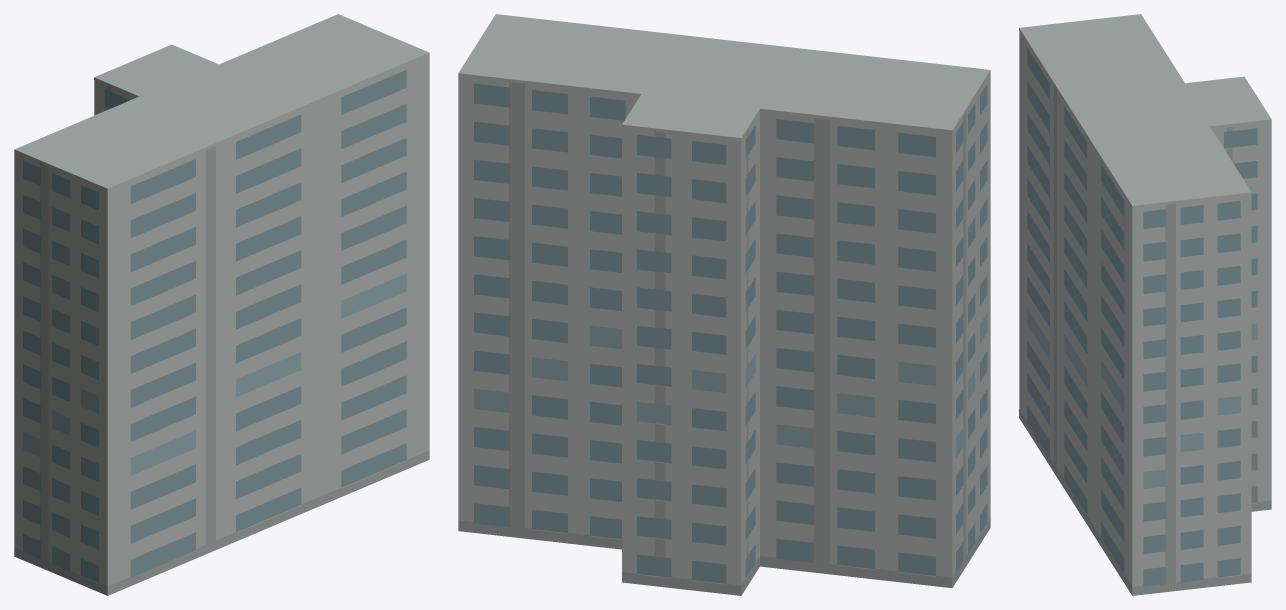
The model's file is residential-663c72b4-2fde-40bc-bc2a-1c40dd28b1f1.glb.
3 views of the same model, side by side, from view 1: azimuth 30°, elevation 25°; view 2: azimuth 150°, elevation 25°; view 3: azimuth 270°, elevation 25° (orthographic). The views are drawn at different scales.
Parts seen in each view (by area): view 1: residential-663c72b4-2fde-40bc-bc2a-1c40dd28b1f1.tmp; view 2: residential-663c72b4-2fde-40bc-bc2a-1c40dd28b1f1.tmp; view 3: residential-663c72b4-2fde-40bc-bc2a-1c40dd28b1f1.tmp.
Boxes of the visible parts, <box> form: residential-663c72b4-2fde-40bc-bc2a-1c40dd28b1f1.tmp: <box>14,14,429,595</box>; residential-663c72b4-2fde-40bc-bc2a-1c40dd28b1f1.tmp: <box>458,14,990,595</box>; residential-663c72b4-2fde-40bc-bc2a-1c40dd28b1f1.tmp: <box>1019,14,1271,595</box>.
Size of the model in its own units: 38.63 by 36.6 by 21.5.
